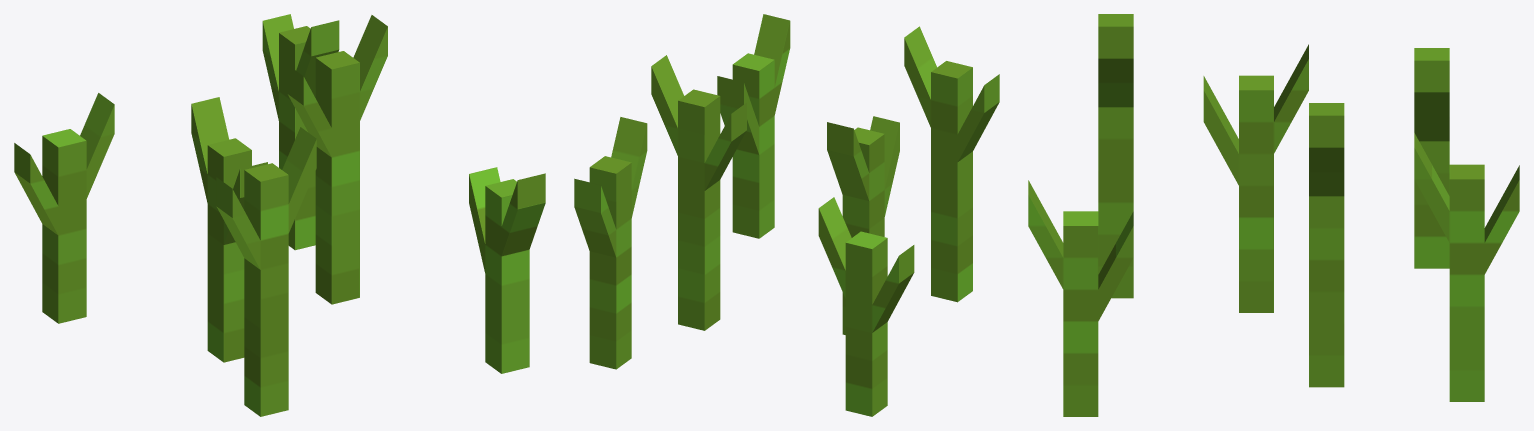
Rendered from Corn2.glb.
3 renders of one model, left to right at view 1: azimuth 30°, elevation 25°; view 2: azimuth 150°, elevation 25°; view 3: azimuth 270°, elevation 25°, orthographic. The views are drawn at different scales.
Visible parts, largest first — view 1: CornStage2; view 2: CornStage2; view 3: CornStage2.
Part boxes in pixels (x1,y1,x2,y2): CornStage2: (14,14,545,416); CornStage2: (574,14,999,416); CornStage2: (1028,14,1519,416).
Size of the model in its own units: 12 by 9 by 14.
1 material, 1 textured.
